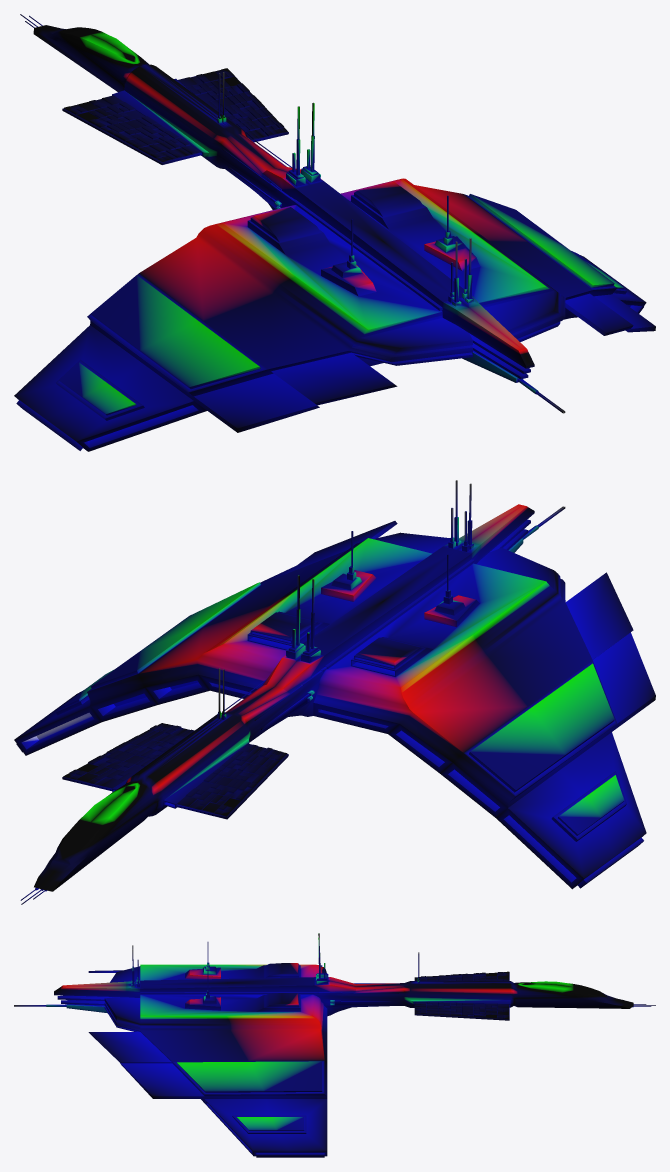
File: ff_cruiser.fbx
3 views of the same model, one above another, from view 1: azimuth 30°, elevation 25°; view 2: azimuth 150°, elevation 25°; view 3: azimuth 270°, elevation 25° (orthographic). The views are drawn at different scales.
Parts seen in each view (by area): view 1: ff_cruiser, ff_cruiser.frontWingPanels; view 2: ff_cruiser, ff_cruiser.frontWingPanels; view 3: ff_cruiser, ff_cruiser.frontWingPanels.
Part boxes in pixels (x1=…): ff_cruiser: x1=14, y1=25, x2=655, y2=451; ff_cruiser.frontWingPanels: x1=64, y1=68, x2=287, y2=161; ff_cruiser: x1=14, y1=480, x2=655, y2=891; ff_cruiser.frontWingPanels: x1=63, y1=723, x2=287, y2=816; ff_cruiser: x1=14, y1=933, x2=633, y2=1157; ff_cruiser.frontWingPanels: x1=414, y1=971, x2=509, y2=1019.
Size of the model in its own units: 3955 by 1589 by 6524.
